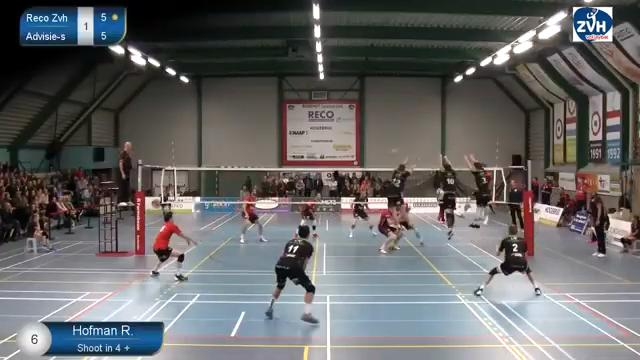attacco: (478, 162, 496, 184)
muro: (431, 151, 464, 242), (458, 152, 494, 233), (382, 150, 415, 229)
